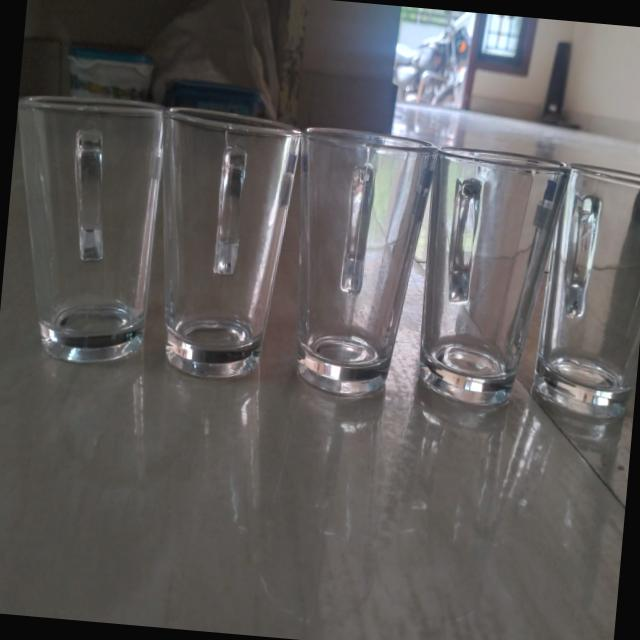glass-VX4N: (141, 109, 308, 389), (0, 91, 164, 365), (406, 149, 572, 412), (284, 128, 440, 401), (525, 166, 640, 424)
